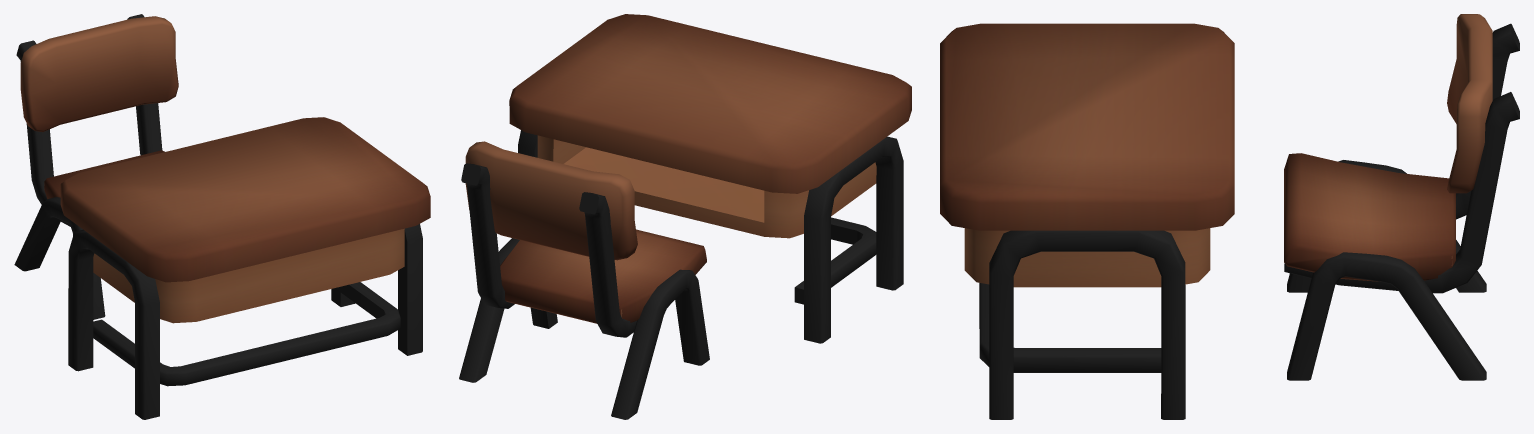
File: StudentSeat.fbx
3 views of the same model, side by side, from view 1: azimuth 30°, elevation 25°; view 2: azimuth 150°, elevation 25°; view 3: azimuth 270°, elevation 25° (orthographic). The views are drawn at different scales.
Visible parts, largest first — view 1: StudentSeat; view 2: StudentSeat; view 3: StudentSeat.
Boxes of the visible parts, <box> form: StudentSeat: <box>14,14,430,419</box>; StudentSeat: <box>459,14,911,419</box>; StudentSeat: <box>940,14,1519,419</box>.
Bounding box in the file's own units: 340 × 250 × 472.
